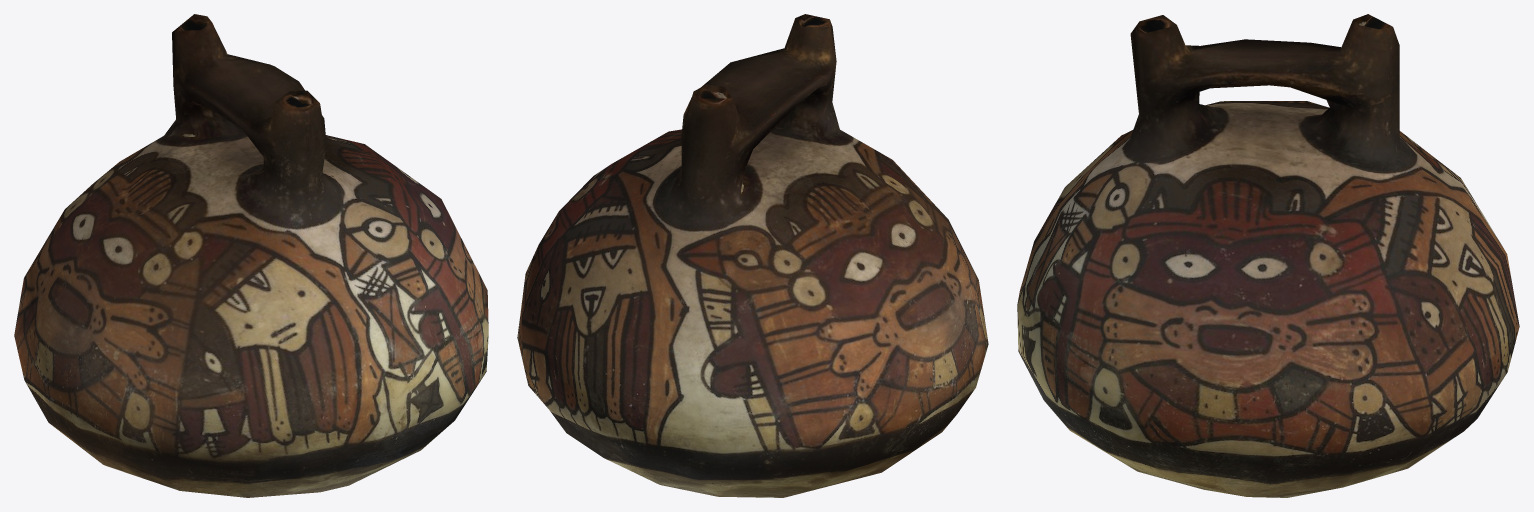
Rendered from nasca.glb.
3 renders of one model, left to right at view 1: azimuth 30°, elevation 25°; view 2: azimuth 150°, elevation 25°; view 3: azimuth 270°, elevation 25°, orthographic. The views are drawn at different scales.
Bounding box in the file's own units: 0.1732 × 0.168 × 0.1723.
1 material, 1 textured.
